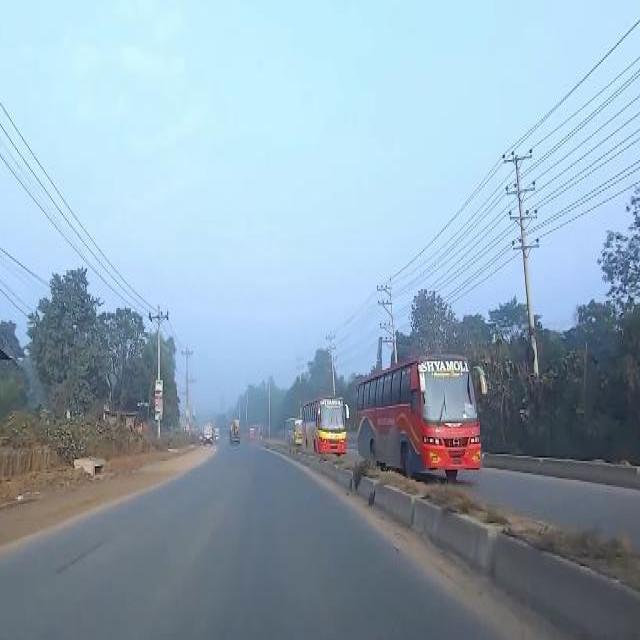11: (229, 416, 239, 440)
18: (202, 422, 212, 443)
Truck: (358, 355, 484, 473), (302, 392, 348, 452), (284, 412, 300, 441), (248, 425, 254, 437)
